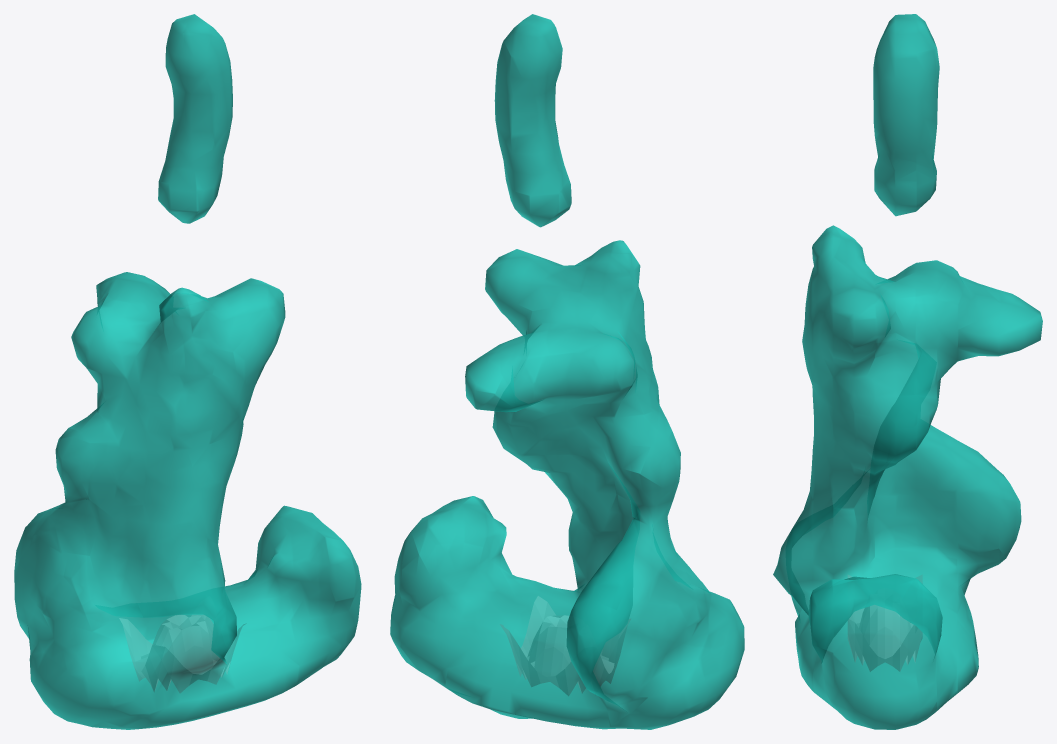
3 views of the same model, side by side, from view 1: azimuth 30°, elevation 25°; view 2: azimuth 150°, elevation 25°; view 3: azimuth 270°, elevation 25° (orthographic). The views are drawn at different scales.
Visible parts, largest first — view 1: Liquid_Domain, グリッド; view 2: Liquid_Domain, グリッド; view 3: Liquid_Domain, グリッド.
Boxes of the visible parts, x1,y1,x2,y2 form: Liquid_Domain: [14, 14, 361, 729]; グリッド: [119, 615, 244, 692]; Liquid_Domain: [390, 14, 744, 729]; グリッド: [500, 596, 630, 695]; Liquid_Domain: [773, 14, 1042, 729]; グリッド: [848, 575, 922, 671].
Bounding box in the file's own units: 1.43 × 2.92 × 1.08.
